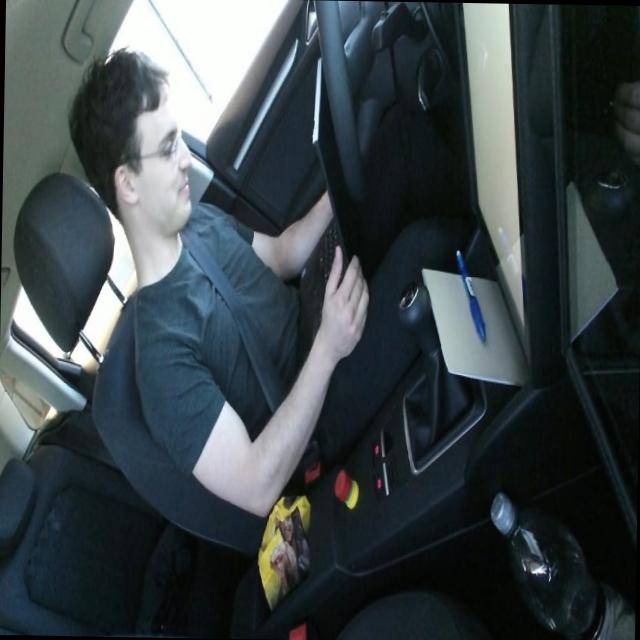pen: (452, 245, 488, 342)
